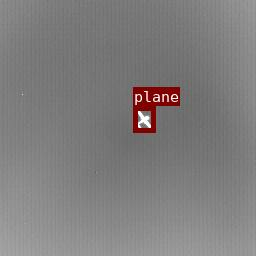plane: (133, 106, 155, 132)
